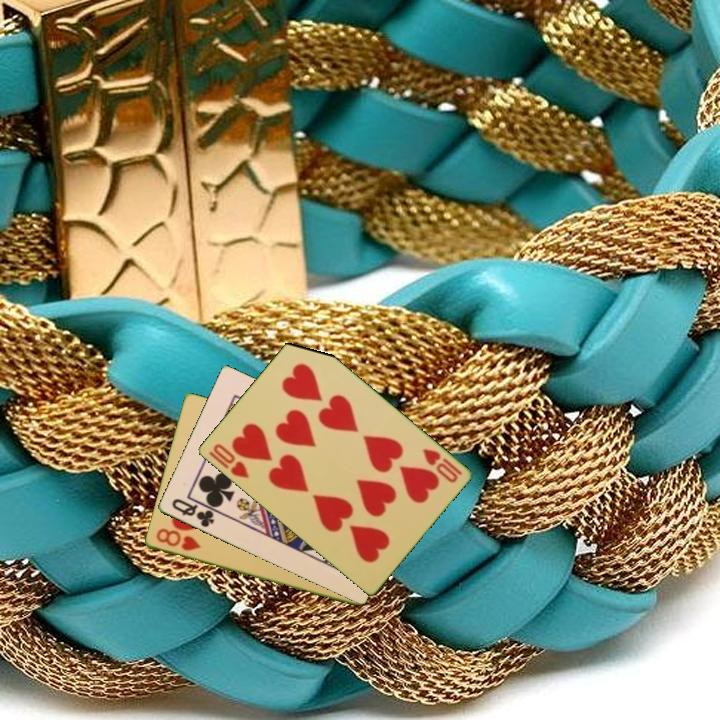10h: (205, 440, 252, 481), (418, 445, 465, 486)
8h: (152, 525, 203, 554)
Qc: (168, 495, 217, 531)
